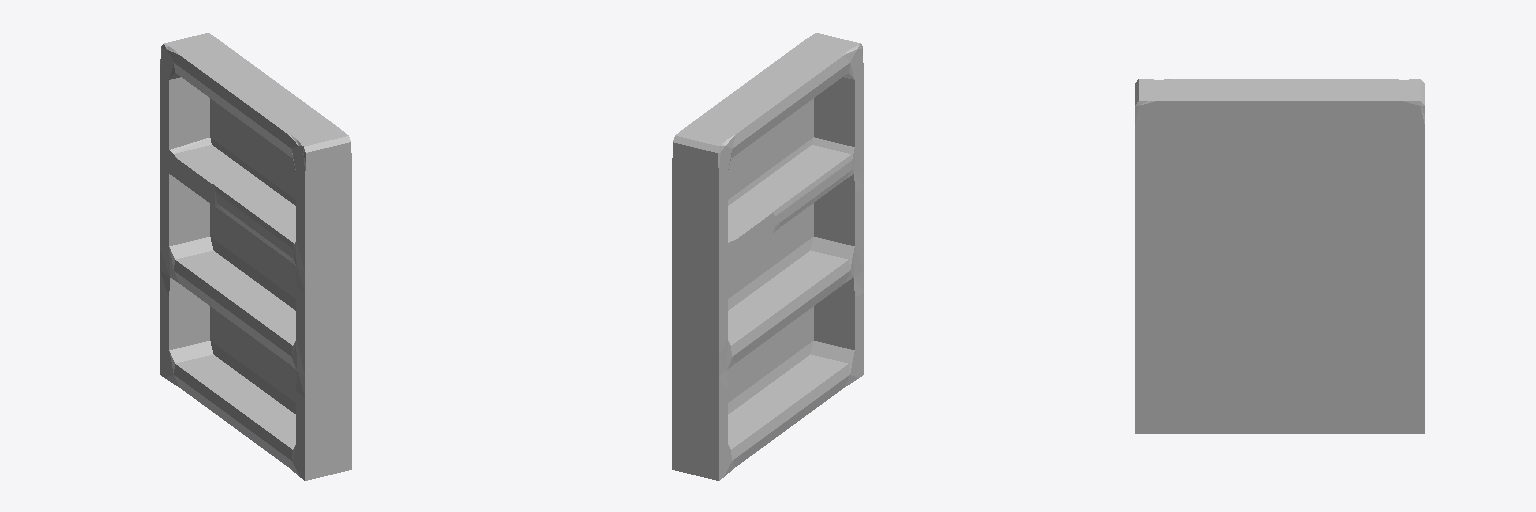
File: boekenkast.obj
3 views of the same model, side by side, from view 1: azimuth 30°, elevation 25°; view 2: azimuth 150°, elevation 25°; view 3: azimuth 270°, elevation 25° (orthographic).
Parts seen in each view (by area): view 1: Cube.006_Cube.007; view 2: Cube.006_Cube.007; view 3: Cube.006_Cube.007.
Part boxes in pixels (x1,y1,x2,y2): Cube.006_Cube.007: (160,33,351,480); Cube.006_Cube.007: (672,33,863,480); Cube.006_Cube.007: (1135,79,1424,433).
Size of the model in its own units: 0.5606 by 3.83 by 3.03.